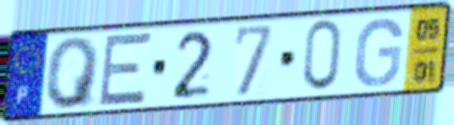0: (300, 17, 344, 96)
2: (172, 29, 215, 102)
7: (233, 22, 276, 100)
E: (95, 30, 156, 109)
G: (351, 16, 405, 89)
Q: (44, 34, 103, 112)
